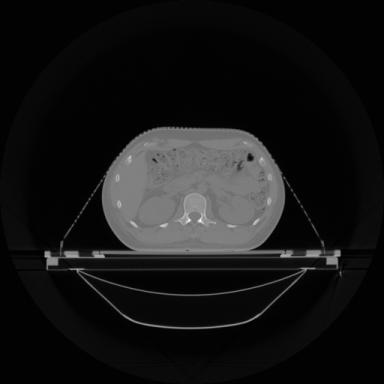body: (102, 128, 285, 251)
cord: (176, 193, 216, 226)
